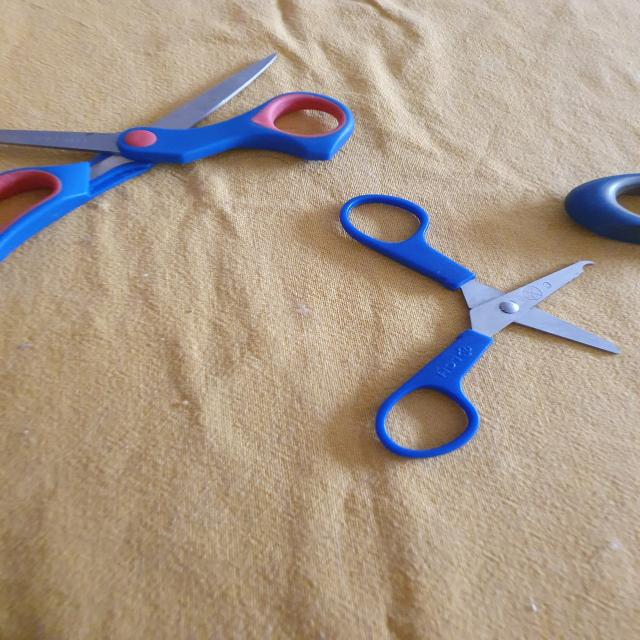scissors: (334, 190, 620, 460), (0, 56, 356, 258), (569, 171, 640, 245)
